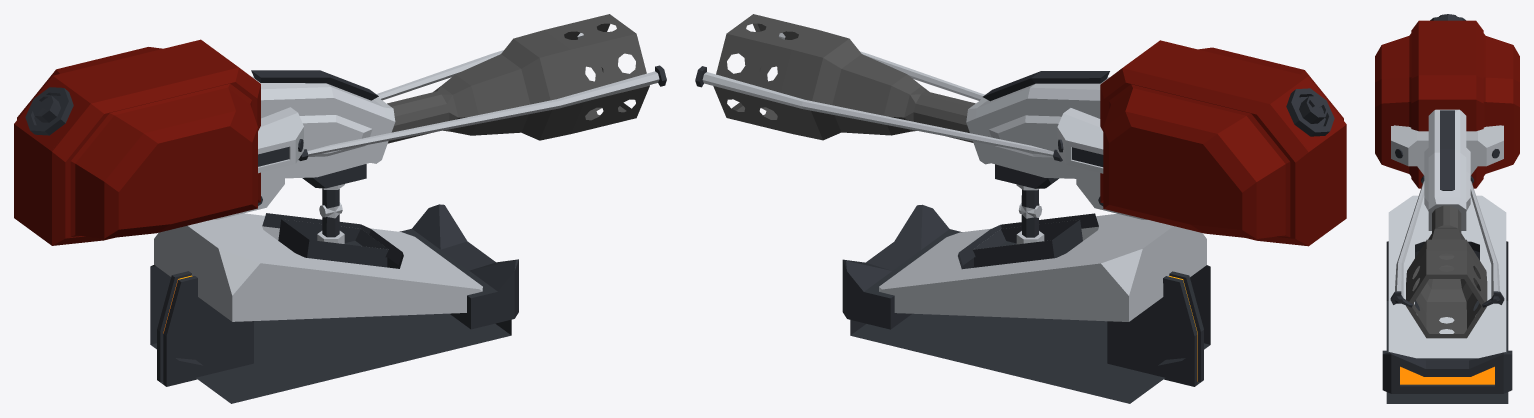
File: lancaChamas2.glb
3 views of the same model, side by side, from view 1: azimuth 30°, elevation 25°; view 2: azimuth 150°, elevation 25°; view 3: azimuth 270°, elevation 25° (orthographic). The views are drawn at different scales.
Visible parts, largest first — view 1: Turret, Base; view 2: Turret, Base; view 3: Turret, Base.
Part boxes in pixels (bbox=[...]): Turret: bbox=[14, 14, 666, 245]; Base: bbox=[150, 204, 518, 403]; Turret: bbox=[695, 14, 1346, 246]; Base: bbox=[842, 204, 1210, 403]; Turret: bbox=[1375, 14, 1519, 338]; Base: bbox=[1382, 195, 1512, 403].
Bounding box in the file's own units: 4.29 × 2.19 × 1.19.
